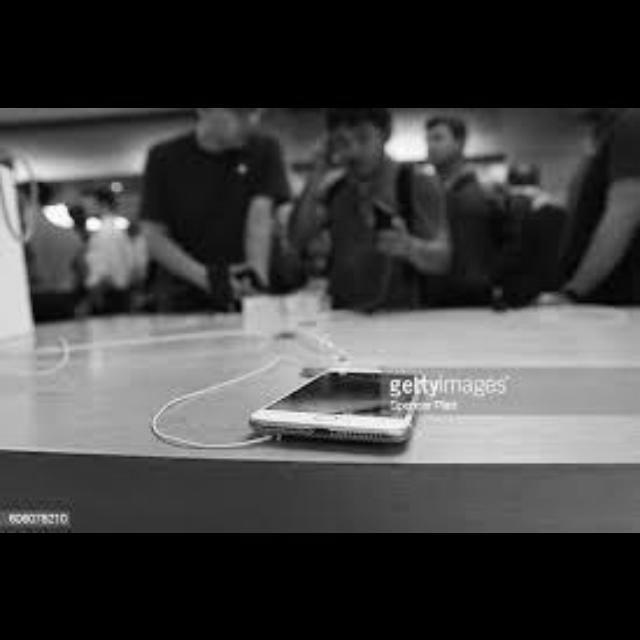fake: (222, 337, 450, 457)
